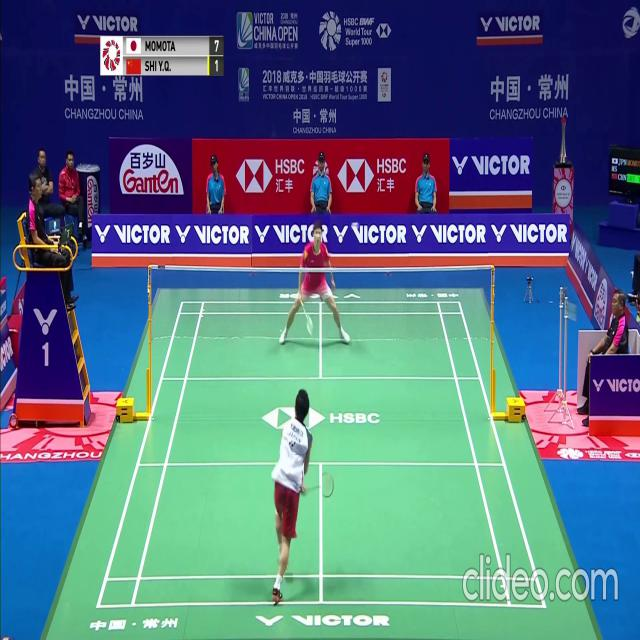Shuttlecock: (355, 221, 359, 229)
